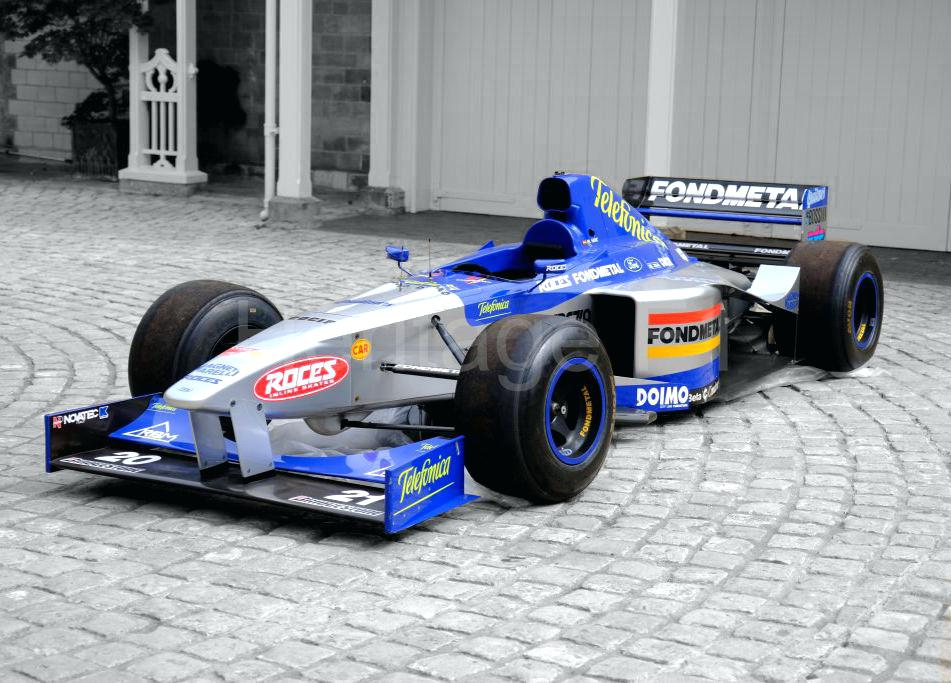f1_car: (24, 154, 903, 560)
